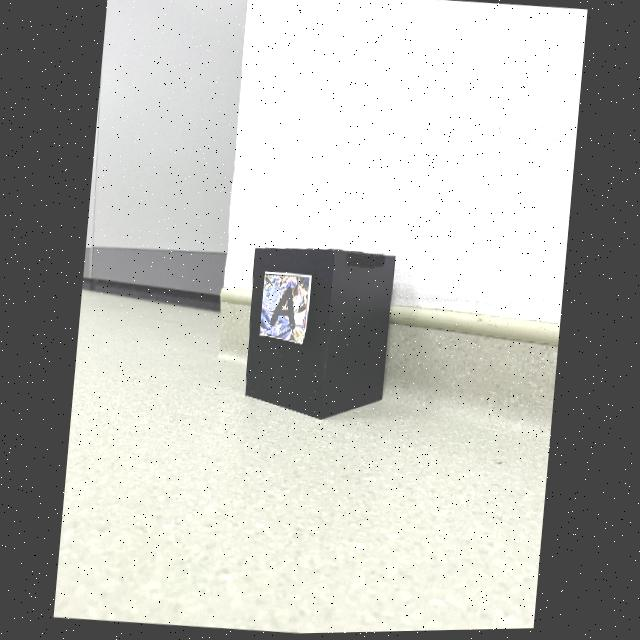A: (269, 288, 295, 332)
